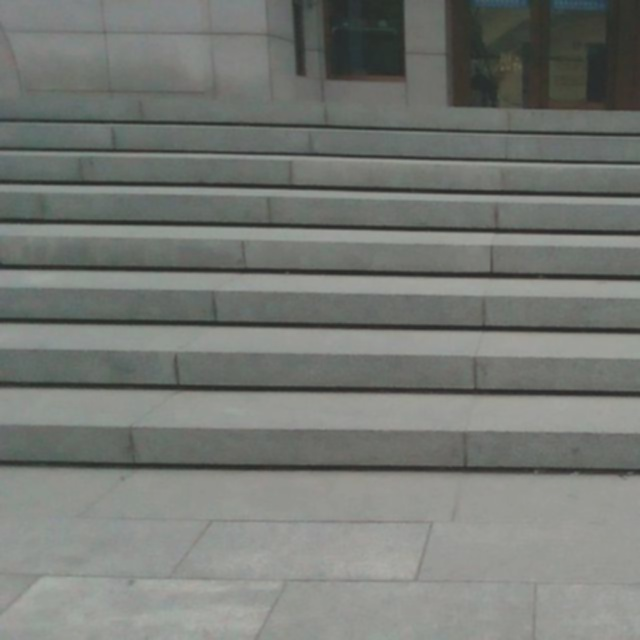stair: (0, 118, 637, 472)
